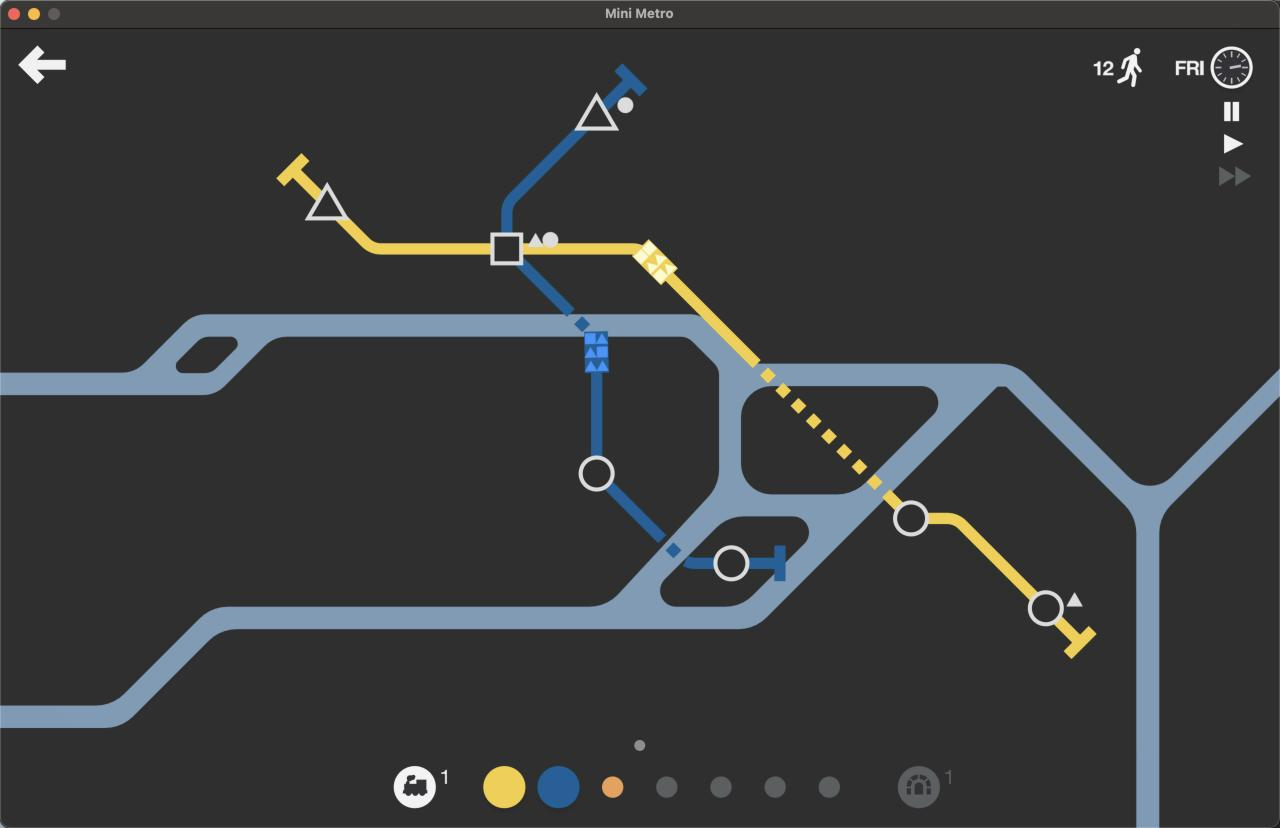CIRCLE: (892, 499, 930, 538), (1026, 589, 1065, 627), (578, 454, 615, 493), (713, 545, 750, 582)
SQUARE: (490, 231, 525, 266)
TRIANGLE: (575, 91, 622, 132), (304, 181, 348, 221)
